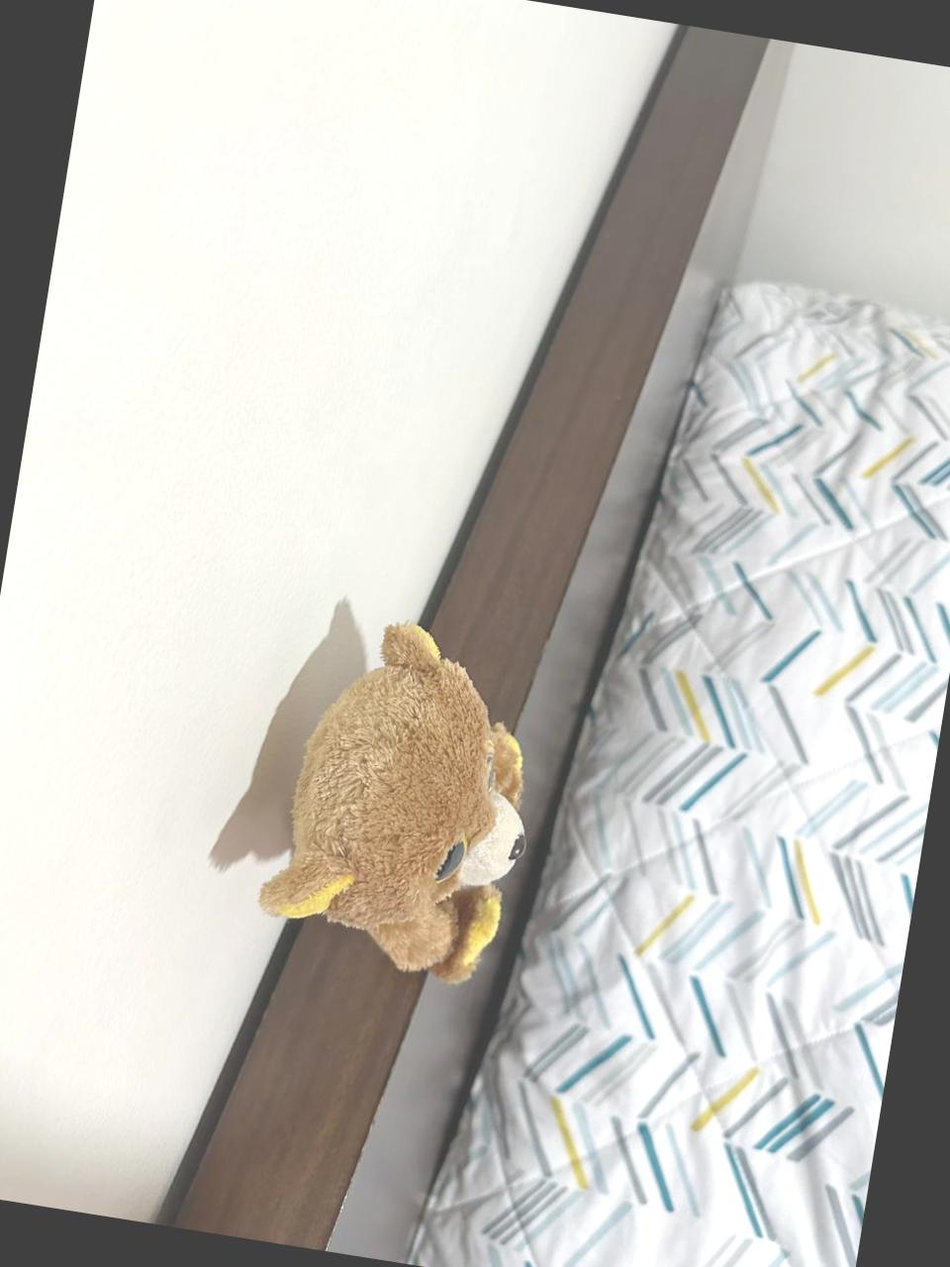peluche_sebastian: (249, 606, 558, 991)
